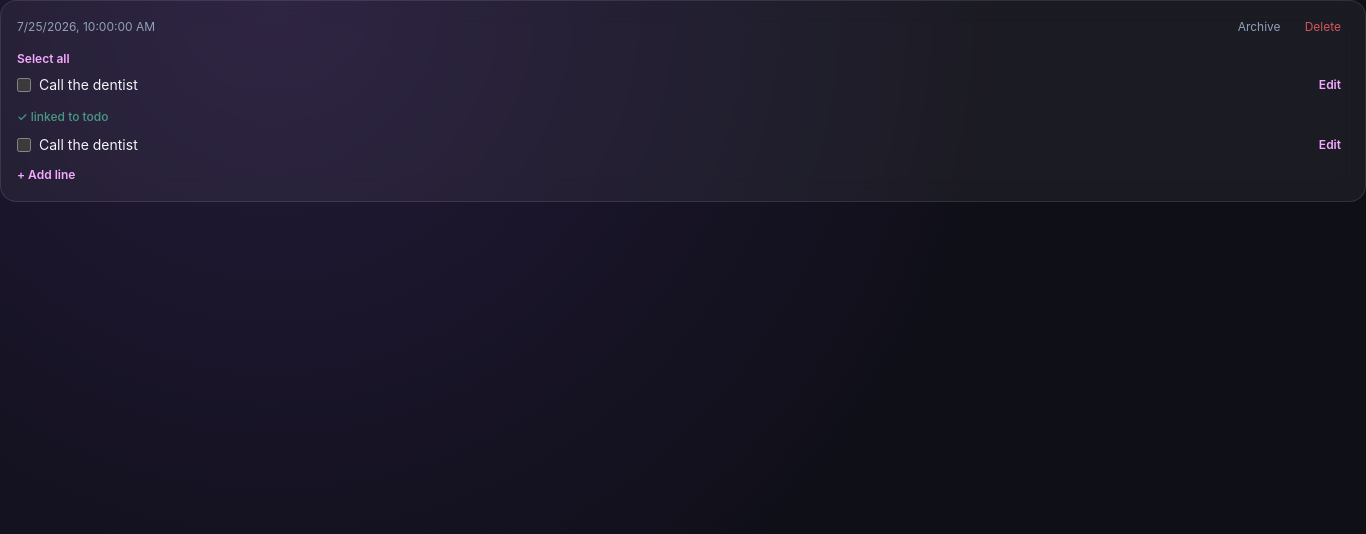
it: ScratchNoteCard › selects all not-yet-promoted lines at once and can clear the selection
Click the button "Select all". click: (43, 59)
box: [17,51,70,67]
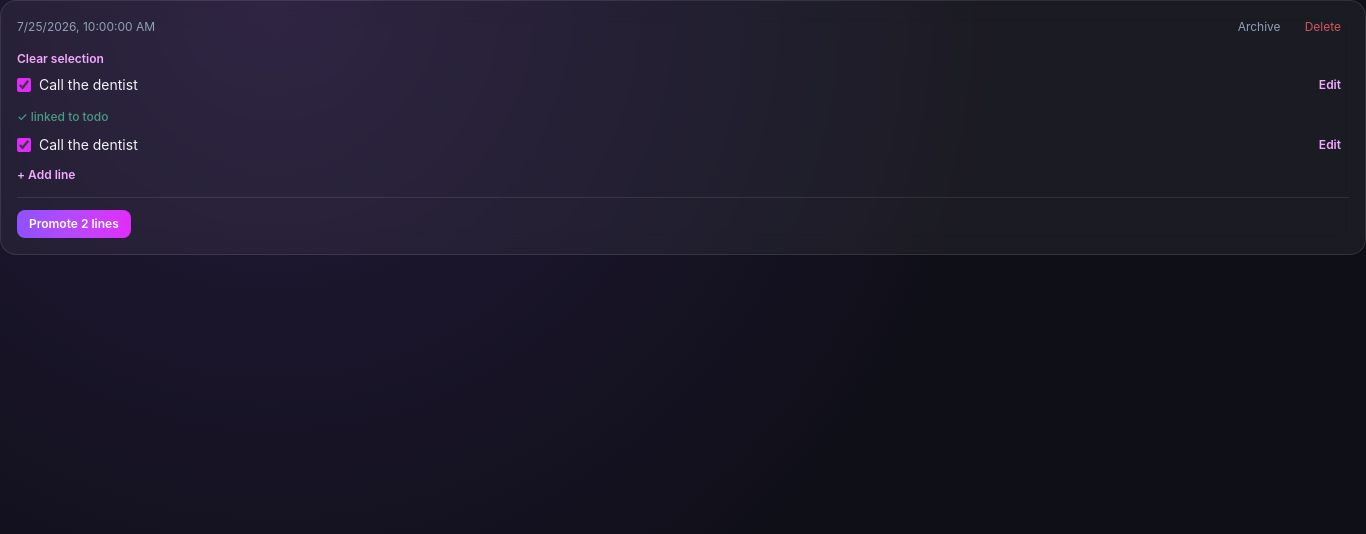
Now the checkbox named "Promote line-1" is checked, box [17,78,31,92]
Now the checkbox named "Promote line-3" is checked, box [17,138,31,152]
Now the button "Promote 2 lines" is shown, box [17,210,131,238]
Click the button "Clear selection". click: (60, 59)
box: [17,51,104,67]
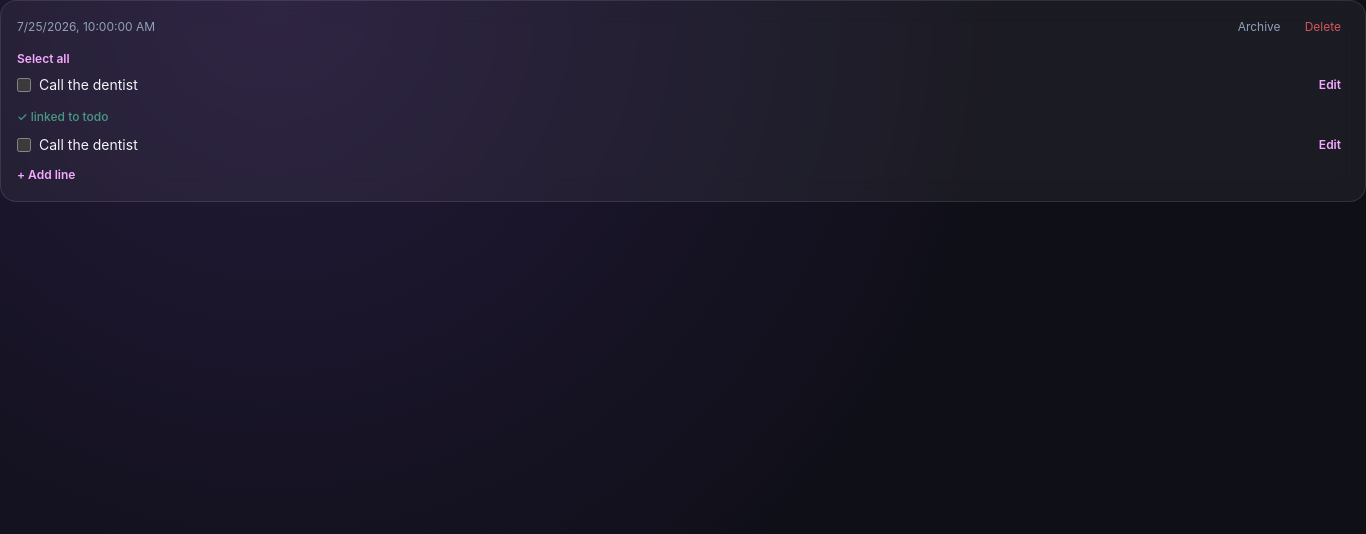
Now the checkbox named "Promote line-1" is not checked, box [17,78,31,92]
Now the checkbox named "Promote line-3" is not checked, box [17,138,31,152]
